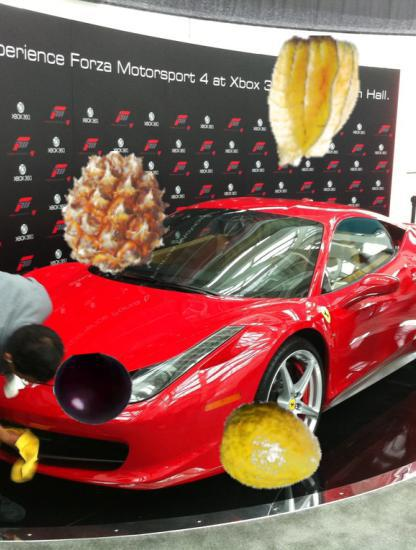Cherry: (53, 349, 134, 430)
Guava: (218, 393, 324, 499)
Physalis: (247, 36, 381, 170)
Pineapple: (54, 151, 178, 275)
